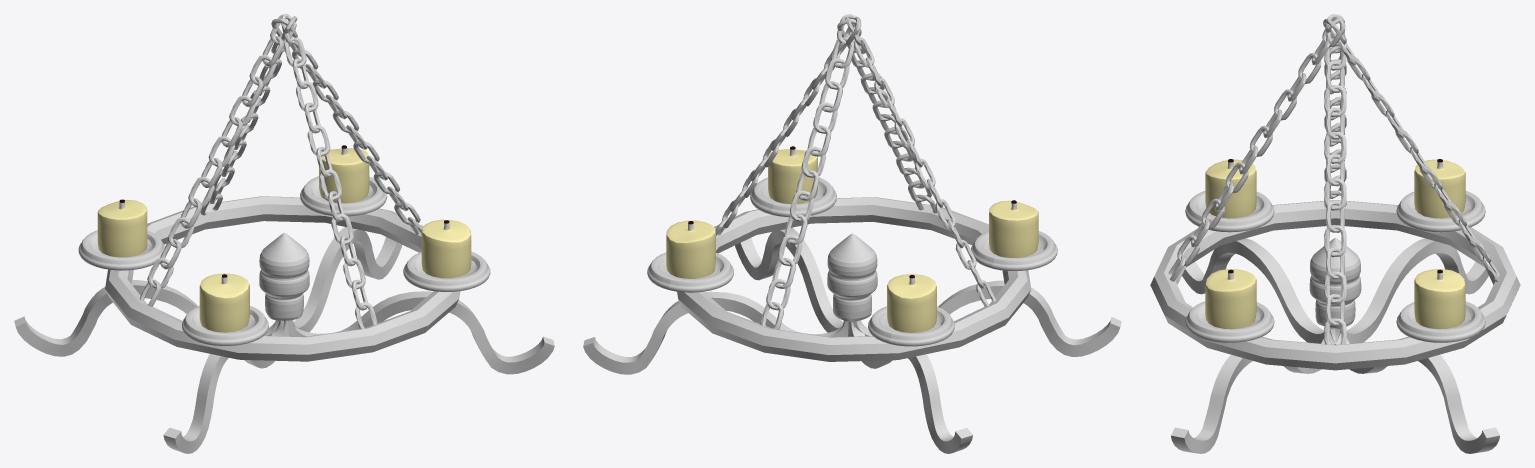
Rendered from Candelabra.fbx.
3 renders of one model, left to right at view 1: azimuth 30°, elevation 25°; view 2: azimuth 150°, elevation 25°; view 3: azimuth 270°, elevation 25°, orthographic. The views are drawn at different scales.
Visible parts, largest first — view 1: Candelabra, Candles; view 2: Candelabra, Candles; view 3: Candelabra, Candles.
Part boxes in pixels (box(x1,y1,x2,y2)): Candelabra: box(14, 14, 554, 453); Candles: box(97, 145, 471, 332); Candelabra: box(583, 14, 1121, 453); Candles: box(666, 146, 1038, 332); Candelabra: box(1150, 14, 1520, 453); Candles: box(1205, 159, 1465, 329).
Size of the model in its own units: 1.02 by 0.8649 by 0.82.
